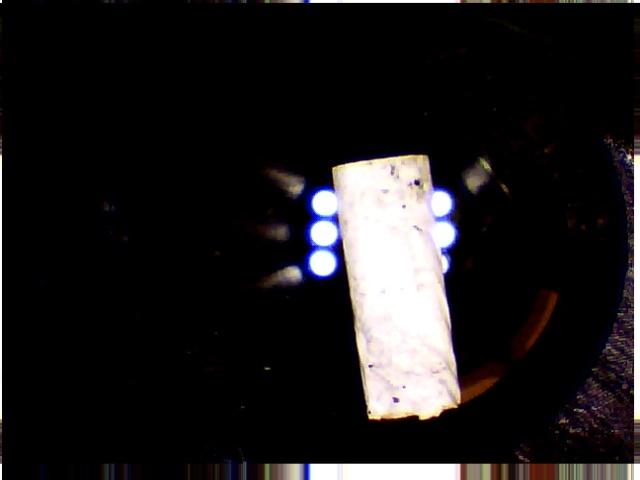megot: (326, 142, 462, 432)
